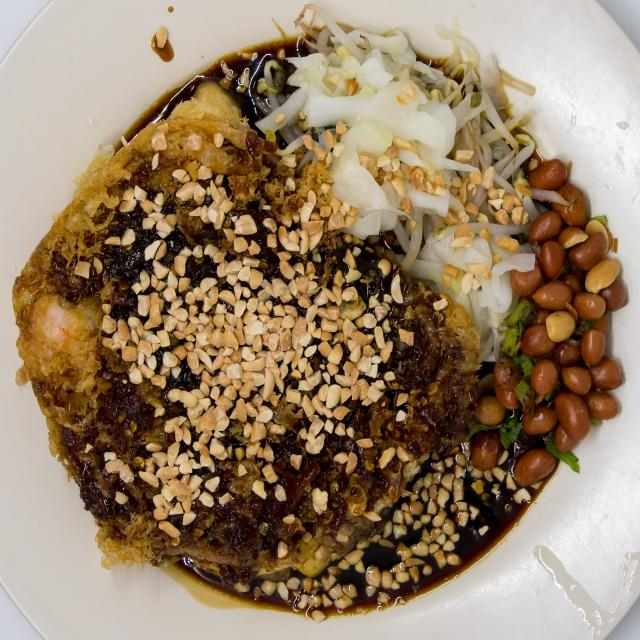Tahu-Telur: (31, 26, 608, 610)
